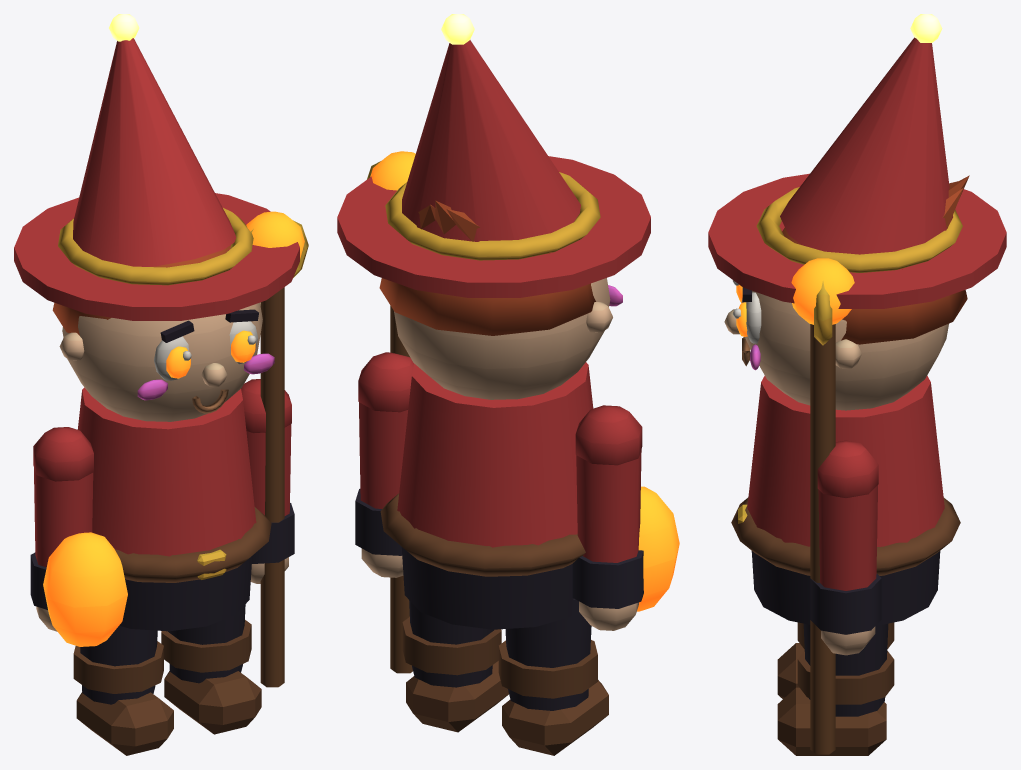
File: hero_ignatius.glb
3 views of the same model, side by side, from view 1: azimuth 30°, elevation 25°; view 2: azimuth 150°, elevation 25°; view 3: azimuth 270°, elevation 25° (orthographic). The views are drawn at different scales.
Visible parts, largest first — view 1: body_t0_palette, armr_t0_palette, legl_t0_palette, legr_t0_palette, arml_t0_palette, arml_t0_fire, armr_t0_fire, body_t0_fire, body_t0_glow_gold; view 2: body_t0_palette, arml_t0_palette, legl_t0_palette, armr_t0_palette, legr_t0_palette, arml_t0_fire, armr_t0_fire, body_t0_glow_gold; view 3: body_t0_palette, armr_t0_palette, legr_t0_palette, armr_t0_fire, legl_t0_palette, body_t0_glow_gold.
Boxes of the visible parts, <box> form: body_t0_palette: <box>14,38,299,631</box>; armr_t0_palette: <box>241,220,308,687</box>; legl_t0_palette: <box>73,625,173,755</box>; legr_t0_palette: <box>161,604,261,734</box>; arml_t0_palette: <box>30,427,93,631</box>; arml_t0_fire: <box>43,532,127,646</box>; armr_t0_fire: <box>246,211,304,258</box>; body_t0_fire: <box>166,330,255,378</box>; body_t0_glow_gold: <box>109,14,139,41</box>; body_t0_palette: <box>337,40,650,629</box>; arml_t0_palette: <box>572,405,643,630</box>; legl_t0_palette: <box>498,599,608,755</box>; armr_t0_palette: <box>355,161,413,673</box>; legr_t0_palette: <box>402,600,508,732</box>; arml_t0_fire: <box>637,486,679,611</box>; armr_t0_fire: <box>370,151,415,190</box>; body_t0_glow_gold: <box>441,14,474,44</box>; body_t0_palette: <box>708,37,1006,625</box>; armr_t0_palette: <box>810,281,881,754</box>; legr_t0_palette: <box>777,623,894,755</box>; armr_t0_fire: <box>791,258,854,324</box>; legl_t0_palette: <box>777,622,894,698</box>; body_t0_glow_gold: <box>910,14,942,42</box>.
Bounding box in the file's own units: 0.286 × 0.684 × 0.26.
